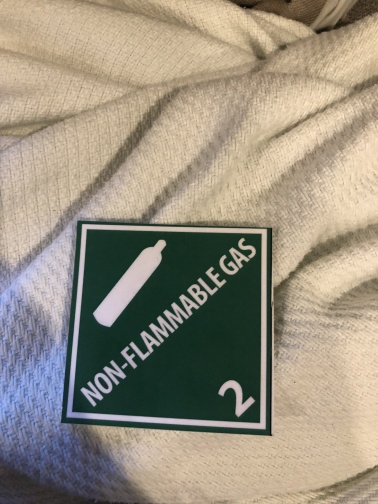NonFlammableGas: (59, 220, 280, 437)
